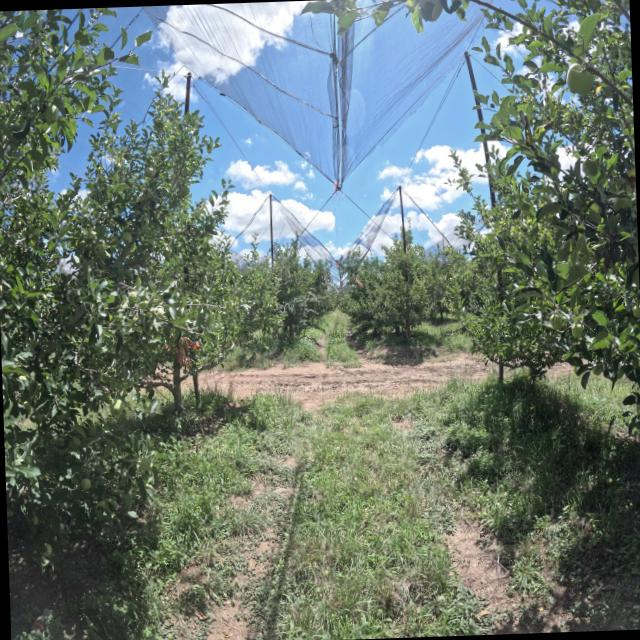-FireBlight-: (163, 336, 204, 372)
